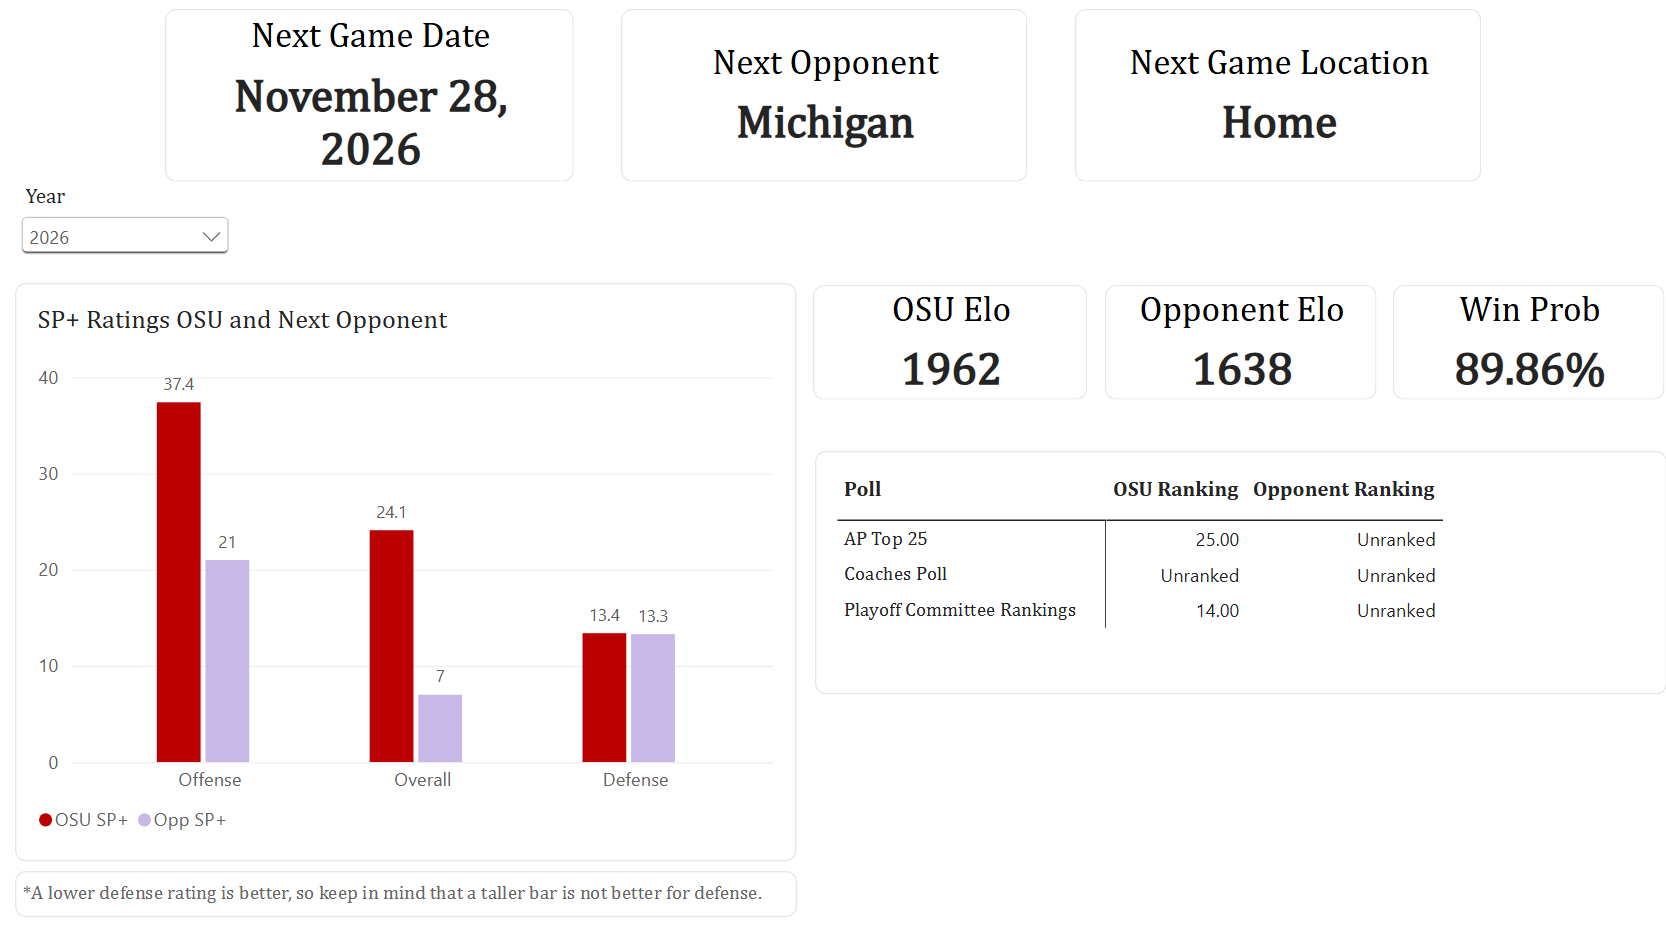

Layout of this report page (visuals, bound fields, positions):
{"tool":"powerbi","page":{"name":"Next Game Preview","canvas":[1280,720],"ordinal":5},"visuals":[{"type":"cardVisual","title":"Wins","fields":{"Data":["Measure.Next Game Date"]},"box":[139.9,18.5,310.7,131.7],"z":0},{"type":"cardVisual","title":"Wins","fields":{"Data":["Measure.Next Opponent"]},"box":[485.7,18.5,308.7,131.7],"z":1000},{"type":"cardVisual","title":"Wins","fields":{"Data":["Measure.Next Game Location"]},"box":[829.3,18.5,308.7,131.7],"z":2000},{"type":"clusteredColumnChart","title":"SP+ Ratings OSU and Next Opponent","fields":{"Category":["Metrics.Metric"],"Y":["Metrics.OSU SP+","Metrics.Opp SP+"]},"box":[25.9,225.9,592.6,438.3],"z":3000},{"type":"slicer","fields":{"Values":["SP Ratings.year"]},"box":[25.7,150.8,167.1,75.6],"z":4000},{"type":"textbox","box":[25.5,671.1,593,35.2],"z":5000},{"type":"cardVisual","title":"Wins","fields":{"Data":["ELO Ratings.OSU Elo"]},"box":[631.4,226.8,208.2,87.5],"z":6000},{"type":"cardVisual","title":"Wins","fields":{"Data":["ELO Ratings.Opponent Elo"]},"box":[852.9,226.8,206.9,87.5],"z":7000},{"type":"pivotTable","fields":{"Rows":["Rankings.polls.poll"],"Values":["Measure.OSU Ranking","Measure.Opponent Ranking"]},"box":[631.4,330.3,646,184.4],"z":8000},{"type":"cardVisual","title":"Wins","fields":{"Data":["Measure.Win Prob"]},"box":[1070.4,226.8,206.9,87.5],"z":9000}]}

Visuals, with their boxes in screenshot pixels (x1, y1, x2, y2), scaled from the page's 1280x720 canvas onto the 1666x927 screenshot:
"Wins" cardVisual: x1=182 y1=24 x2=586 y2=193
"Wins" cardVisual: x1=632 y1=24 x2=1034 y2=193
"Wins" cardVisual: x1=1079 y1=24 x2=1481 y2=193
"SP+ Ratings OSU and Next Opponent" clusteredColumnChart: x1=34 y1=291 x2=805 y2=855
slicer - SP Ratings.year: x1=33 y1=194 x2=251 y2=291
textbox: x1=33 y1=864 x2=805 y2=909
"Wins" cardVisual: x1=822 y1=292 x2=1093 y2=405
"Wins" cardVisual: x1=1110 y1=292 x2=1379 y2=405
pivotTable - Rankings.polls.poll x Measure.OSU Ranking: x1=822 y1=425 x2=1663 y2=663
"Wins" cardVisual: x1=1393 y1=292 x2=1662 y2=405
